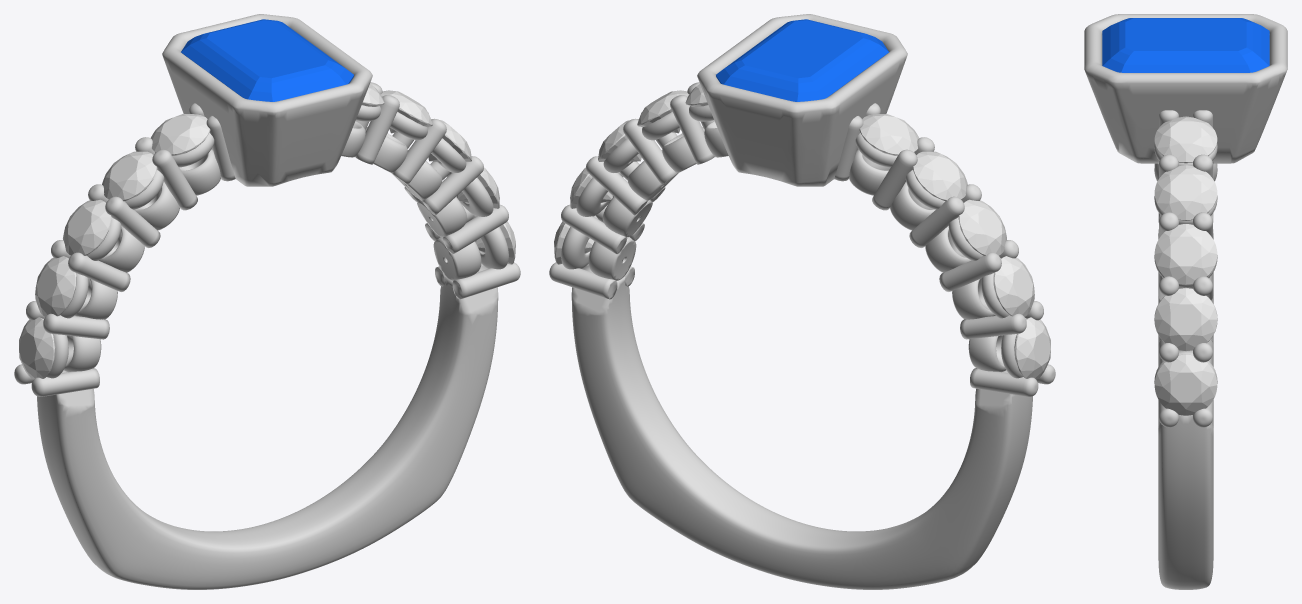
File: bluesapphire-emerald-platinum-bezelset-europeanshank-11stone.glb
3 renders of one model, left to right at view 1: azimuth 30°, elevation 25°; view 2: azimuth 150°, elevation 25°; view 3: azimuth 270°, elevation 25°, orthographic.
Parts seen in each view (by area): view 1: metal.001, stone.001, side.014, side.015, side.013, side.016, side.001, side.018; view 2: metal.001, stone.001, side.014, side.015, side.013, side.016, side.001, side.018; view 3: metal.001, stone.001, side.020, side.021, side.019, side.018, side.017.
Boxes of the visible parts, x1,y1,x2,y2 form: metal.001: [14, 14, 520, 589]; stone.001: [181, 19, 353, 101]; side.014: [63, 199, 111, 255]; side.015: [102, 151, 157, 201]; side.013: [35, 256, 76, 316]; side.016: [151, 114, 210, 155]; side.001: [19, 317, 55, 379]; side.018: [380, 90, 432, 133]; metal.001: [549, 14, 1055, 589]; stone.001: [716, 19, 888, 101]; side.014: [958, 199, 1006, 255]; side.015: [912, 151, 967, 201]; side.013: [993, 256, 1034, 316]; side.016: [859, 114, 918, 155]; side.001: [1014, 317, 1050, 379]; side.018: [637, 90, 689, 133]; metal.001: [1084, 14, 1287, 589]; stone.001: [1102, 18, 1269, 72]; side.020: [1154, 288, 1217, 350]; side.021: [1154, 354, 1217, 415]; side.019: [1154, 224, 1217, 284]; side.018: [1154, 165, 1217, 220]; side.017: [1154, 116, 1217, 163].
Size of the model in its own units: 22 by 22.75 by 8.11.
